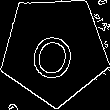O_N: (27, 19, 81, 81)
